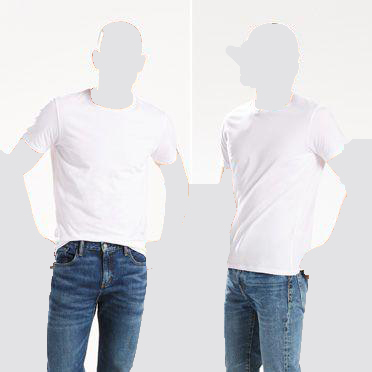teeshirt: (19, 87, 179, 253), (216, 93, 343, 281)
